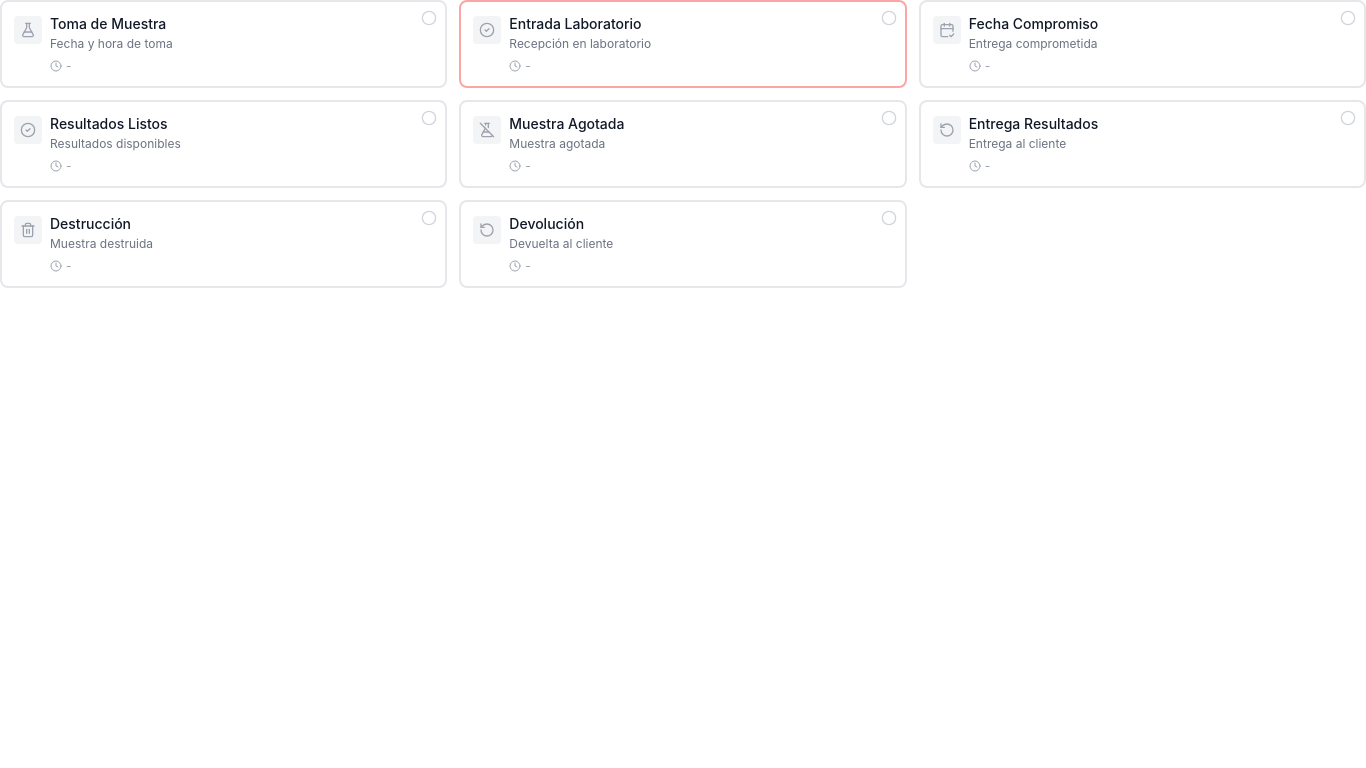
it: TimelineEventsSection › comportamiento del modal de edición › se cierra al pulsar Cancelar
The image size is (1366, 768).
Click the button "Toma de Muestra Fecha y hora de toma -" at point(108, 24), box [0, 0, 447, 88]
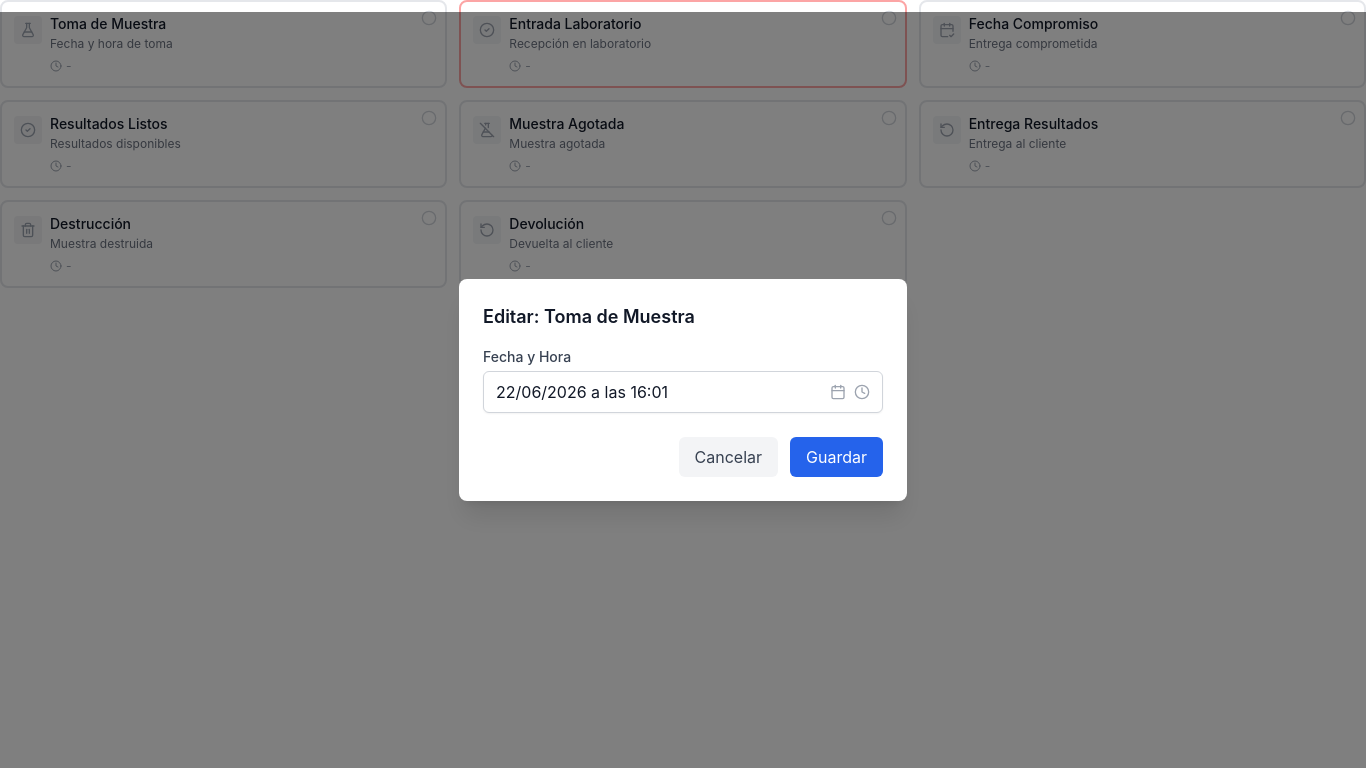
Expected: the heading "Editar: Toma de Muestra" is shown, [483, 306, 695, 327]
Click the button "Cancelar" at point(728, 457), box [679, 437, 778, 477]
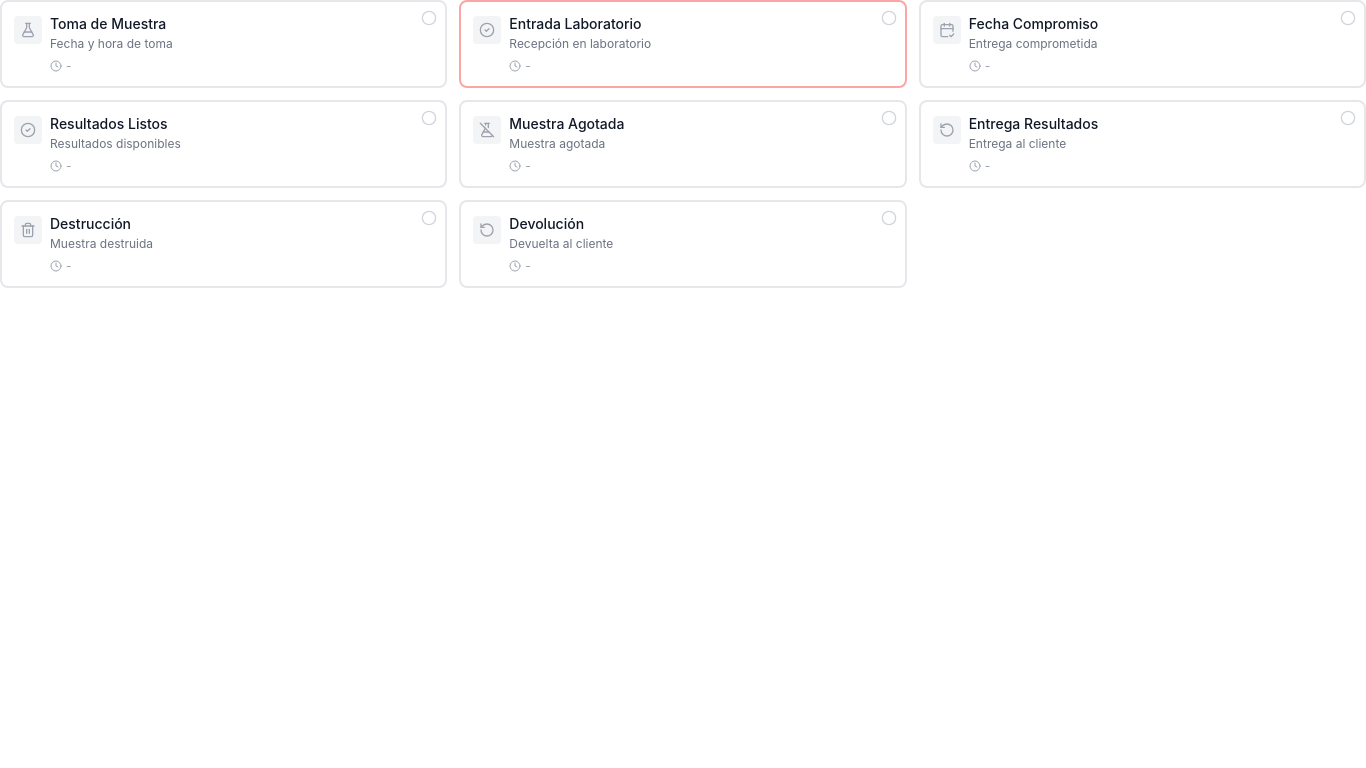
Expected: the heading "Editar: Toma de Muestra" is gone
